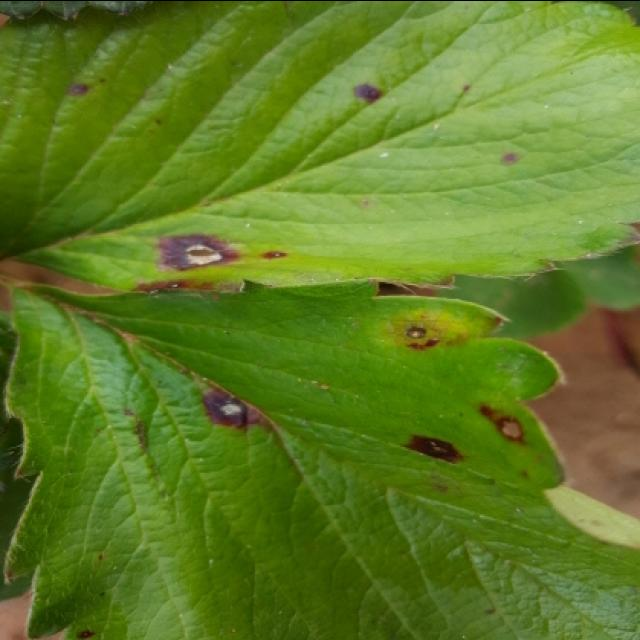Leaf Spot: (4, 280, 638, 638), (0, 0, 638, 294)
